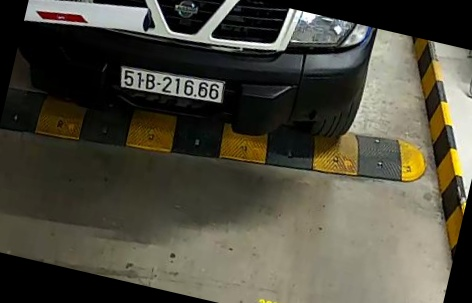plate: (116, 60, 228, 109)
